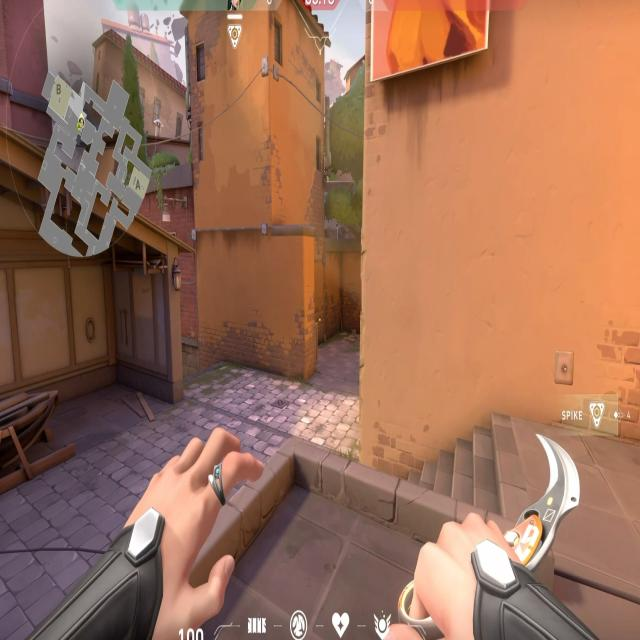B_Garage_Right: (50, 244, 195, 420)
